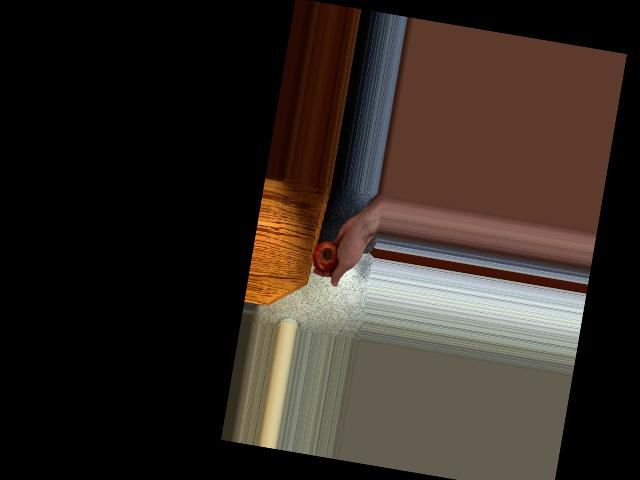apple: (309, 236, 345, 275)
